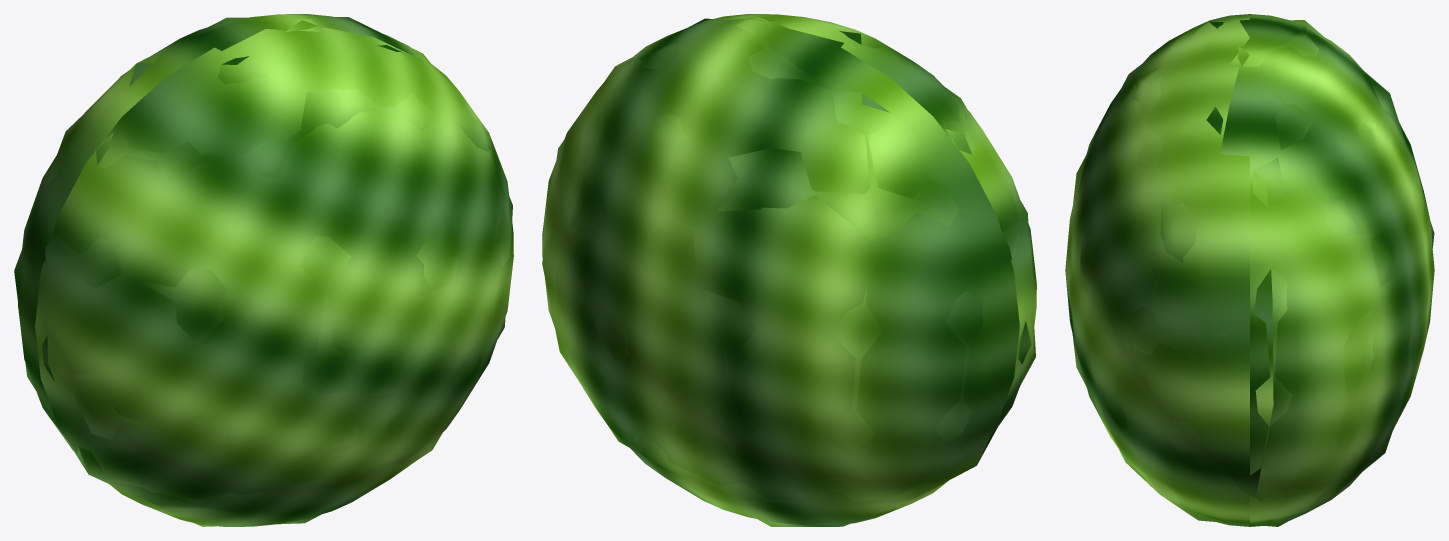
File: cell_toxin_cloud.fbx
The picture shows the model from 3 angles, left to right: view 1: azimuth 30°, elevation 25°; view 2: azimuth 150°, elevation 25°; view 3: azimuth 270°, elevation 25°; orthographic projection. The views are drawn at different scales.
Visible parts, largest first — view 1: cell_toxin_cloud_VIS, cell_toxin_cloud_COL; view 2: cell_toxin_cloud_VIS, cell_toxin_cloud_COL; view 3: cell_toxin_cloud_VIS, cell_toxin_cloud_COL.
Boxes of the visible parts, x1,y1,x2,y2 form: cell_toxin_cloud_VIS: (18, 14, 513, 526); cell_toxin_cloud_COL: (14, 17, 512, 526); cell_toxin_cloud_VIS: (542, 14, 1036, 525); cell_toxin_cloud_COL: (542, 18, 1035, 526); cell_toxin_cloud_VIS: (1065, 14, 1434, 526); cell_toxin_cloud_COL: (1072, 20, 1434, 526).
Size of the model in its own units: 100 by 100 by 72.
